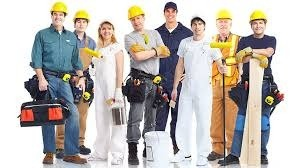helmet: (123, 3, 149, 21), (247, 7, 271, 24), (214, 6, 235, 22), (48, 1, 70, 15), (71, 8, 94, 21)
person with partial safety: (40, 1, 79, 166), (243, 6, 278, 168), (125, 4, 160, 166), (214, 8, 239, 168), (73, 9, 98, 54)
person without safety: (95, 18, 127, 168), (184, 12, 214, 168)
